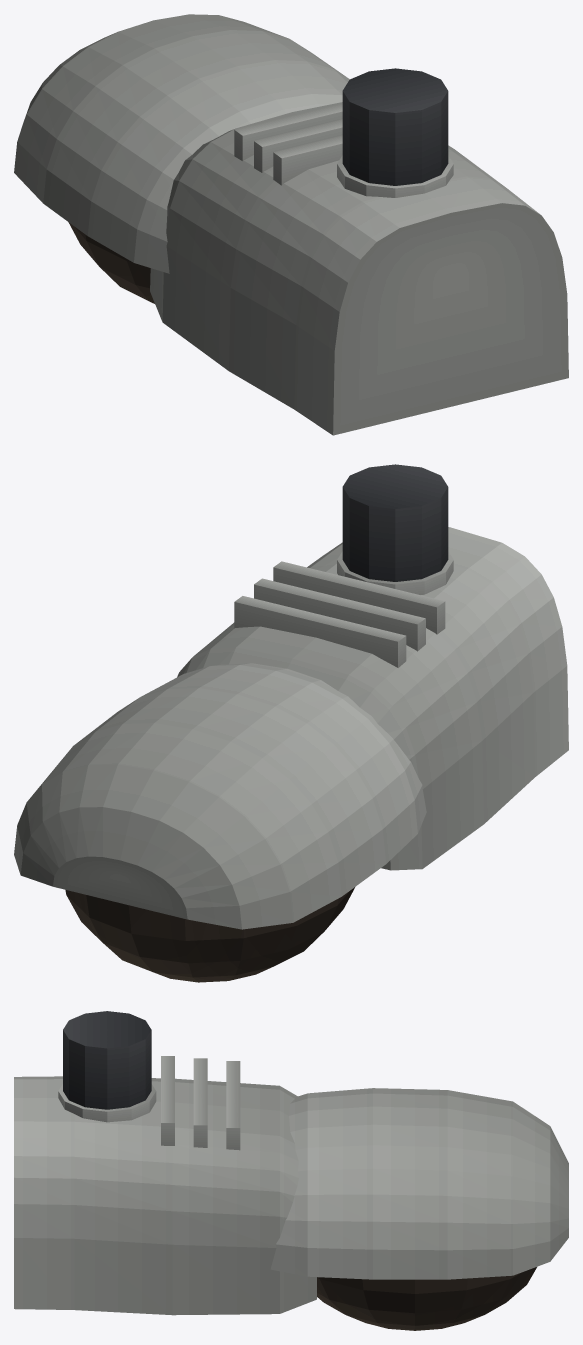
File: streetlight_whl250hps.obj
3 renders of one model, top to bottom at view 1: azimuth 30°, elevation 25°; view 2: azimuth 150°, elevation 25°; view 3: azimuth 270°, elevation 25°, orthographic. The views are drawn at different scales.
Visible parts, largest first — view 1: fixture; view 2: fixture; view 3: fixture.
Boxes of the visible parts, left/top/right/bottom form: fixture: left=14, top=14, right=568, bottom=435; fixture: left=14, top=464, right=568, bottom=982; fixture: left=14, top=1011, right=568, bottom=1330.
Bounding box in the file's own units: 0.3875 × 0.426 × 0.7437.
